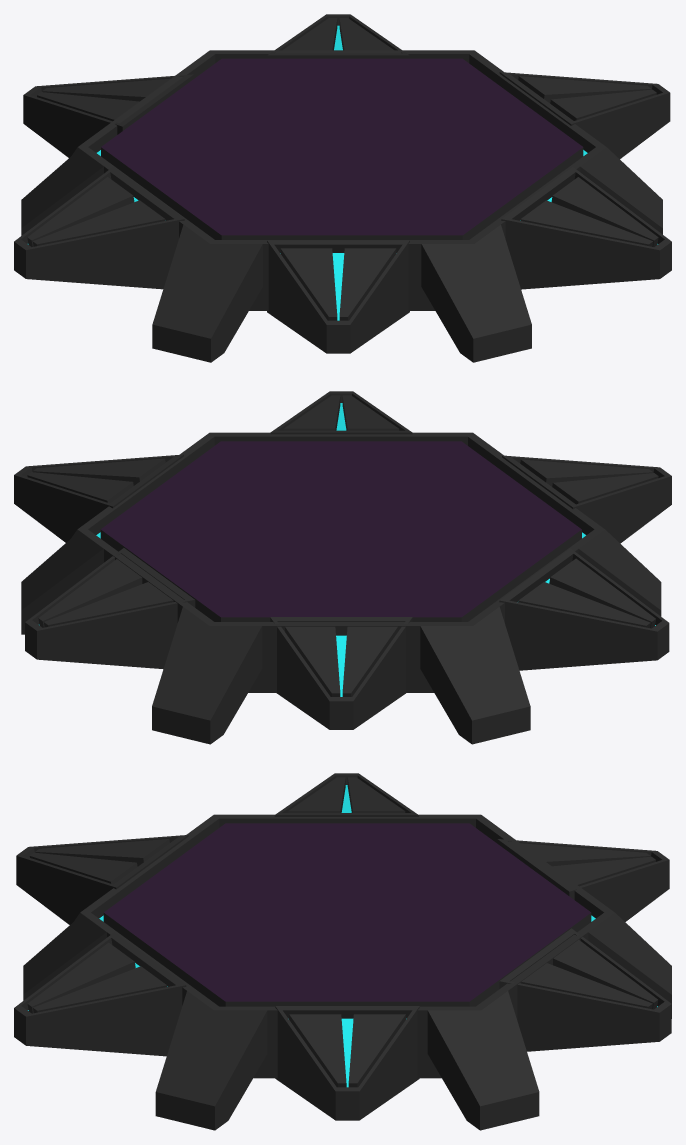
Rendered from TowerBaseHexagonalWithConnectors.fbx.
3 views of the same model, one above another, from view 1: azimuth 30°, elevation 25°; view 2: azimuth 150°, elevation 25°; view 3: azimuth 270°, elevation 25° (orthographic).
Visible parts, largest first — view 1: Cylinder.001, Cylinder, Connection.001, Connection.003, Connection.002, Connection, Connection.004, Connection.005; view 2: Cylinder.001, Cylinder, Connection.003, Connection.005, Connection.004, Connection.002, Connection, Connection.001; view 3: Cylinder.001, Cylinder, Connection.001, Connection, Connection.005, Connection.002, Connection.004, Connection.003.
Boxes of the visible parts, bbox=[...] form: Cylinder.001: bbox=[101, 58, 582, 235]; Cylinder: bbox=[21, 50, 662, 362]; Connection.001: bbox=[501, 167, 671, 289]; Connection.003: bbox=[14, 167, 184, 289]; Connection.002: bbox=[267, 240, 409, 353]; Connection: bbox=[499, 72, 670, 158]; Connection.004: bbox=[23, 74, 193, 157]; Connection.005: bbox=[267, 14, 409, 58]; Cylinder.001: bbox=[101, 441, 581, 617]; Cylinder: bbox=[21, 432, 661, 744]; Connection.003: bbox=[499, 548, 669, 670]; Connection.005: bbox=[25, 548, 195, 669]; Connection.004: bbox=[270, 617, 412, 729]; Connection.002: bbox=[502, 455, 671, 543]; Connection: bbox=[14, 454, 183, 542]; Connection.001: bbox=[270, 391, 412, 434]; Cylinder.001: bbox=[104, 823, 590, 1001]; Cylinder: bbox=[23, 814, 671, 1130]; Connection.001: bbox=[14, 932, 186, 1056]; Connection: bbox=[275, 1006, 419, 1120]; Connection.005: bbox=[499, 928, 671, 1051]; Connection.002: bbox=[16, 835, 188, 924]; Connection.004: bbox=[497, 839, 669, 921]; Connection.003: bbox=[274, 773, 418, 816].
Size of the model in its own units: 225 by 31 by 197.
